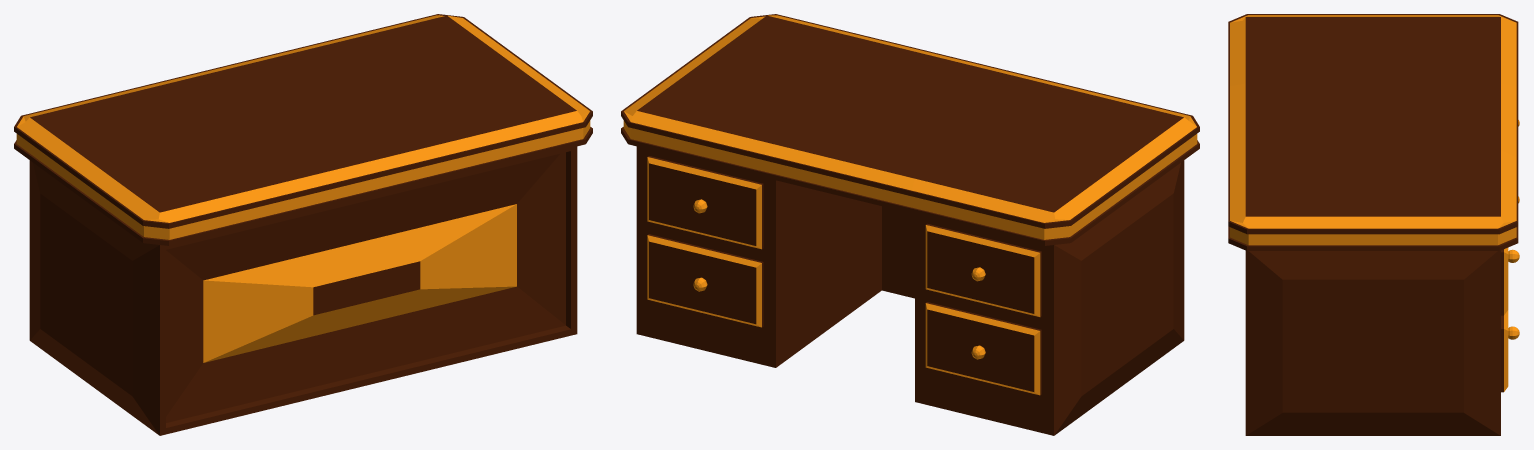
Rendered from desk.fbx.
The picture shows the model from 3 angles, left to right: view 1: azimuth 30°, elevation 25°; view 2: azimuth 150°, elevation 25°; view 3: azimuth 270°, elevation 25°; orthographic projection.
Parts seen in each view (by area): view 1: Cube; view 2: Cube; view 3: Cube.
Part boxes in pixels (x1,y1,x2,y2): Cube: (14,14,592,435); Cube: (621,14,1199,435); Cube: (1228,14,1519,435).
Bounding box in the file's own units: 216 × 102 × 123.
